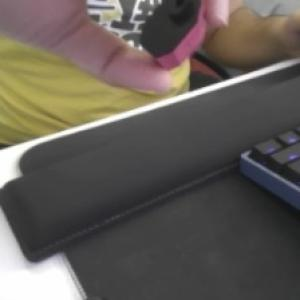Blume-E-Ciggirate: (136, 1, 208, 66)
